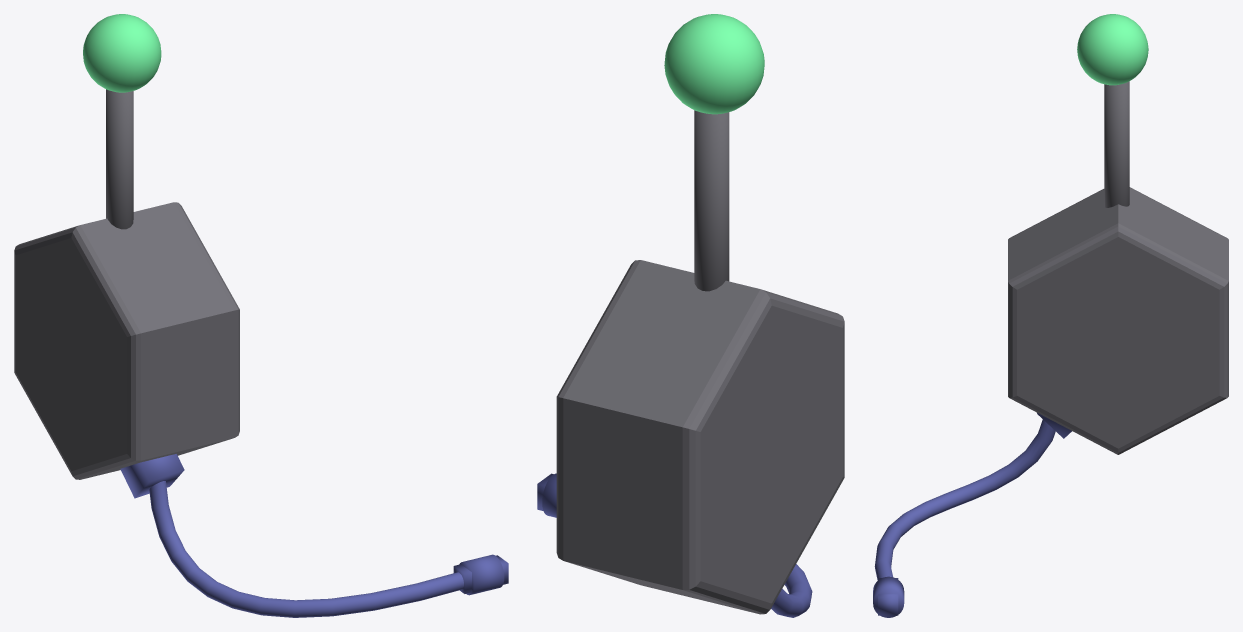
The model's file is HeadSet1.fbx.
The picture shows the model from 3 angles, left to right: view 1: azimuth 30°, elevation 25°; view 2: azimuth 150°, elevation 25°; view 3: azimuth 270°, elevation 25°; orthographic projection. The views are drawn at different scales.
Visible parts, largest first — view 1: HeadSet2; view 2: HeadSet2; view 3: HeadSet2.
Boxes of the visible parts, x1,y1,x2,y2 form: HeadSet2: (14, 14, 508, 617); HeadSet2: (537, 14, 844, 617); HeadSet2: (873, 14, 1228, 617).
Bounding box in the file's own units: 38.94 × 65.86 × 43.35.
